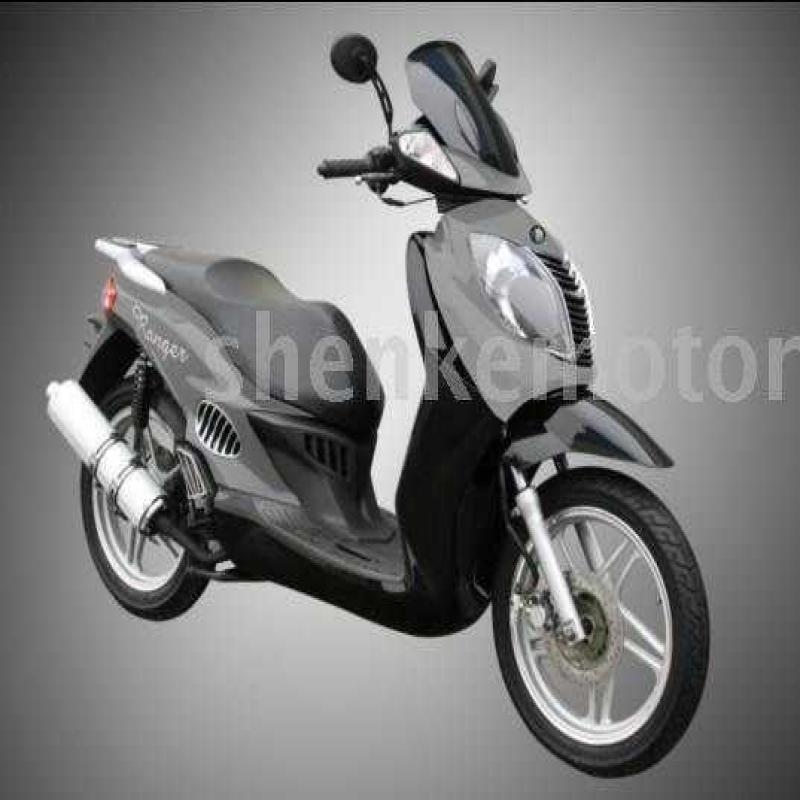bike: (65, 24, 691, 762)
